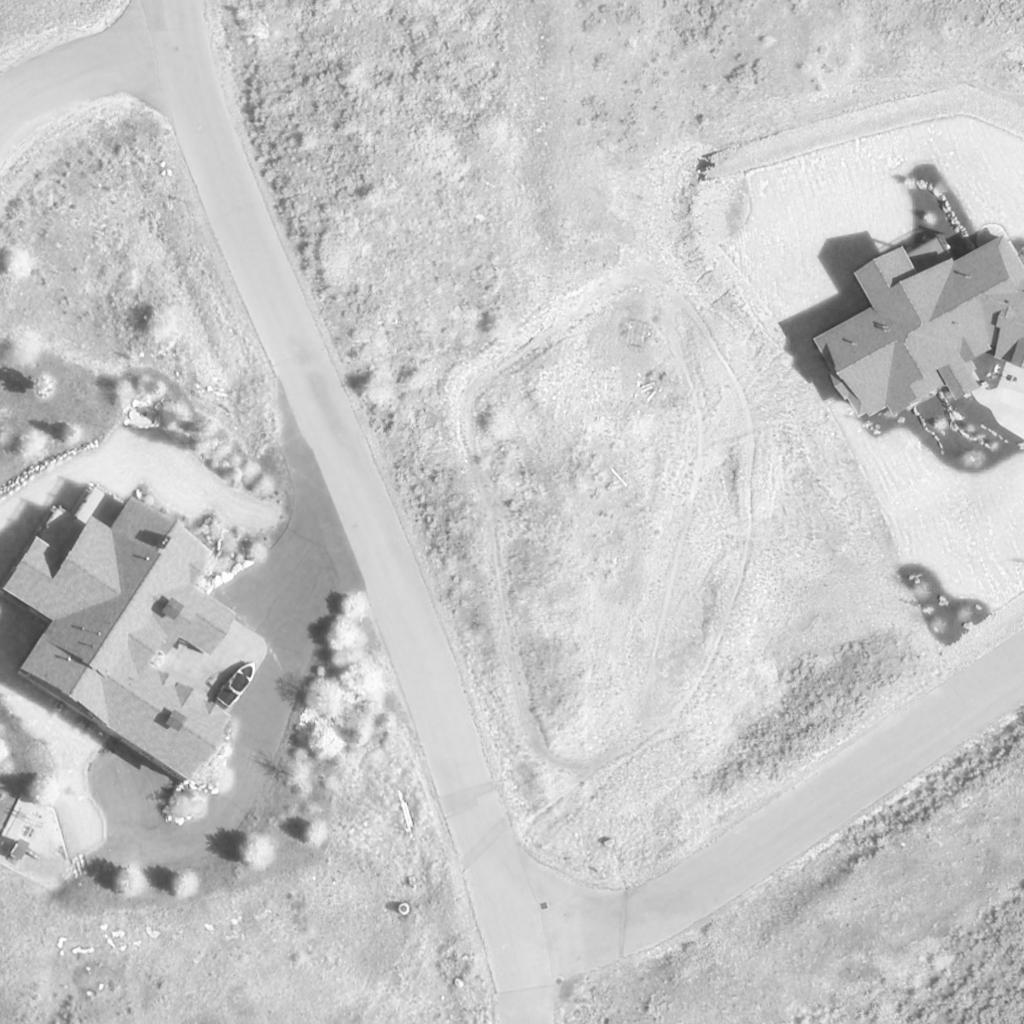vehicle: (217, 659, 259, 709)
